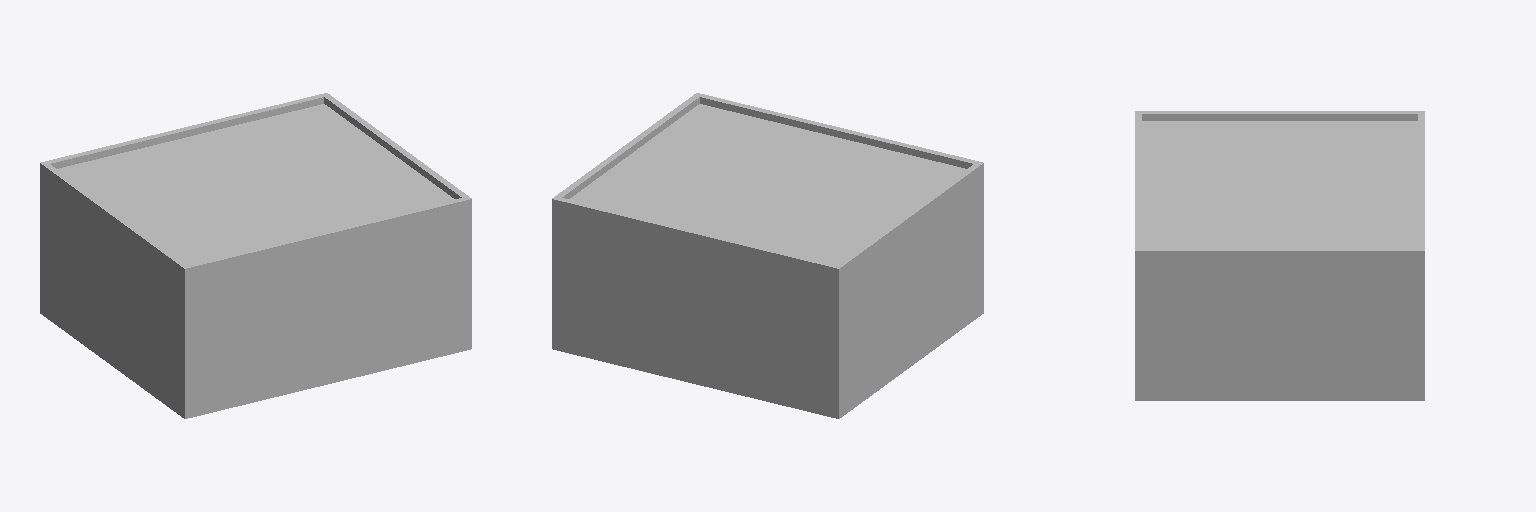
Rendered from Modern Cabinet 1.obj.
3 renders of one model, left to right at view 1: azimuth 30°, elevation 25°; view 2: azimuth 150°, elevation 25°; view 3: azimuth 270°, elevation 25°, orthographic.
Parts seen in each view (by area): view 1: Body, Body004, Body002, Body001, Body003; view 2: Body001, Body004, Body002, Body, Body003; view 3: Body003, Body004, Body002, Body, Body001.
Part boxes in pixels (x1,y1,x2,y2): Body: (185,198,471,418); Body004: (58,104,454,264); Body002: (40,163,186,418); Body001: (41,93,326,168); Body003: (324,93,471,198); Body001: (552,198,838,418); Body004: (569,104,965,264); Body002: (837,163,983,418); Body: (697,93,982,168); Body003: (552,93,699,198); Body003: (1135,248,1424,400); Body004: (1142,121,1417,247); Body002: (1137,111,1422,120); Body: (1135,111,1141,250); Body001: (1418,111,1424,250).
Bounding box in the file's own units: 800 × 400 × 700.